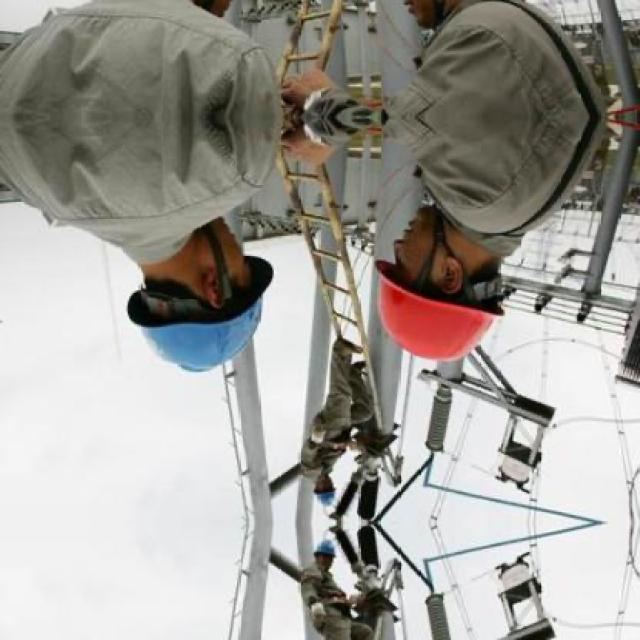con casco: (120, 259, 278, 377), (356, 272, 506, 370), (310, 532, 344, 571), (316, 476, 350, 508)
